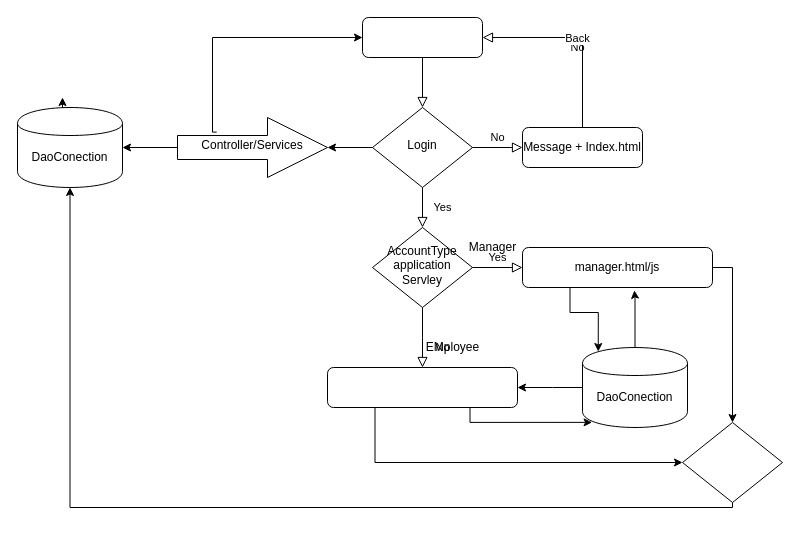
Image size: 800x533. Some labels were removed from this diagram. Each missing label, with the centre of its shape:
"employee.html/js" belongs at [422,387].
"LoginServlet" belongs at [422,37].
"Logout" belongs at [732,462].
